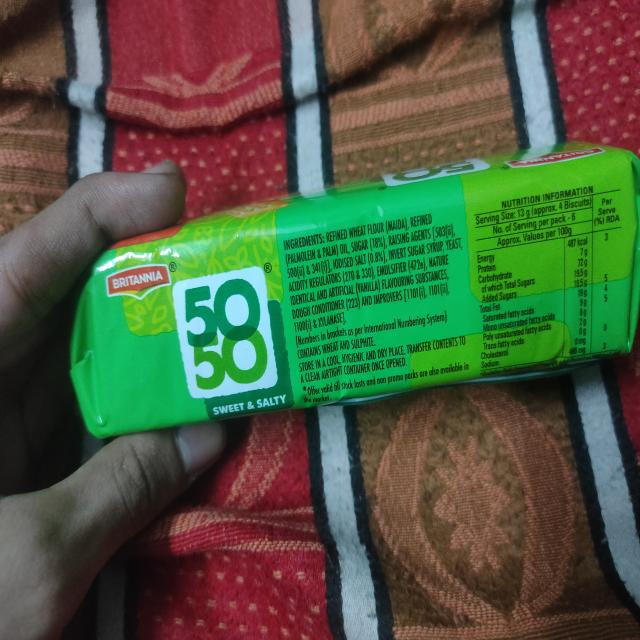biscuit: (59, 139, 640, 454)
